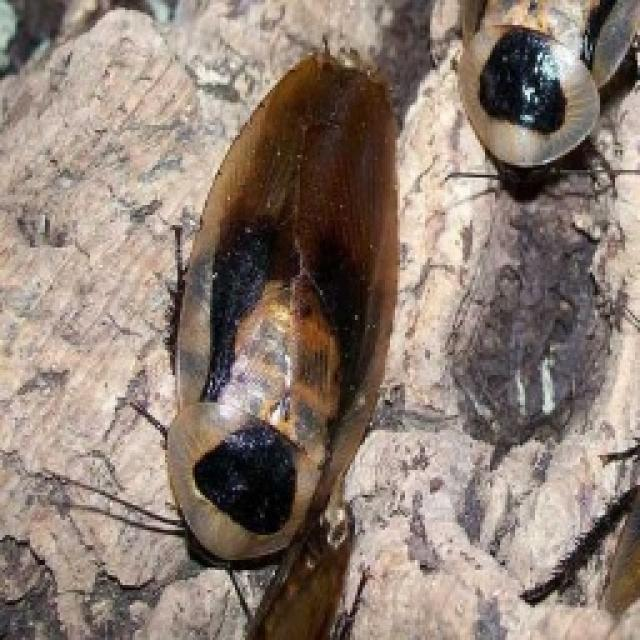cockroach: (134, 39, 450, 578)
